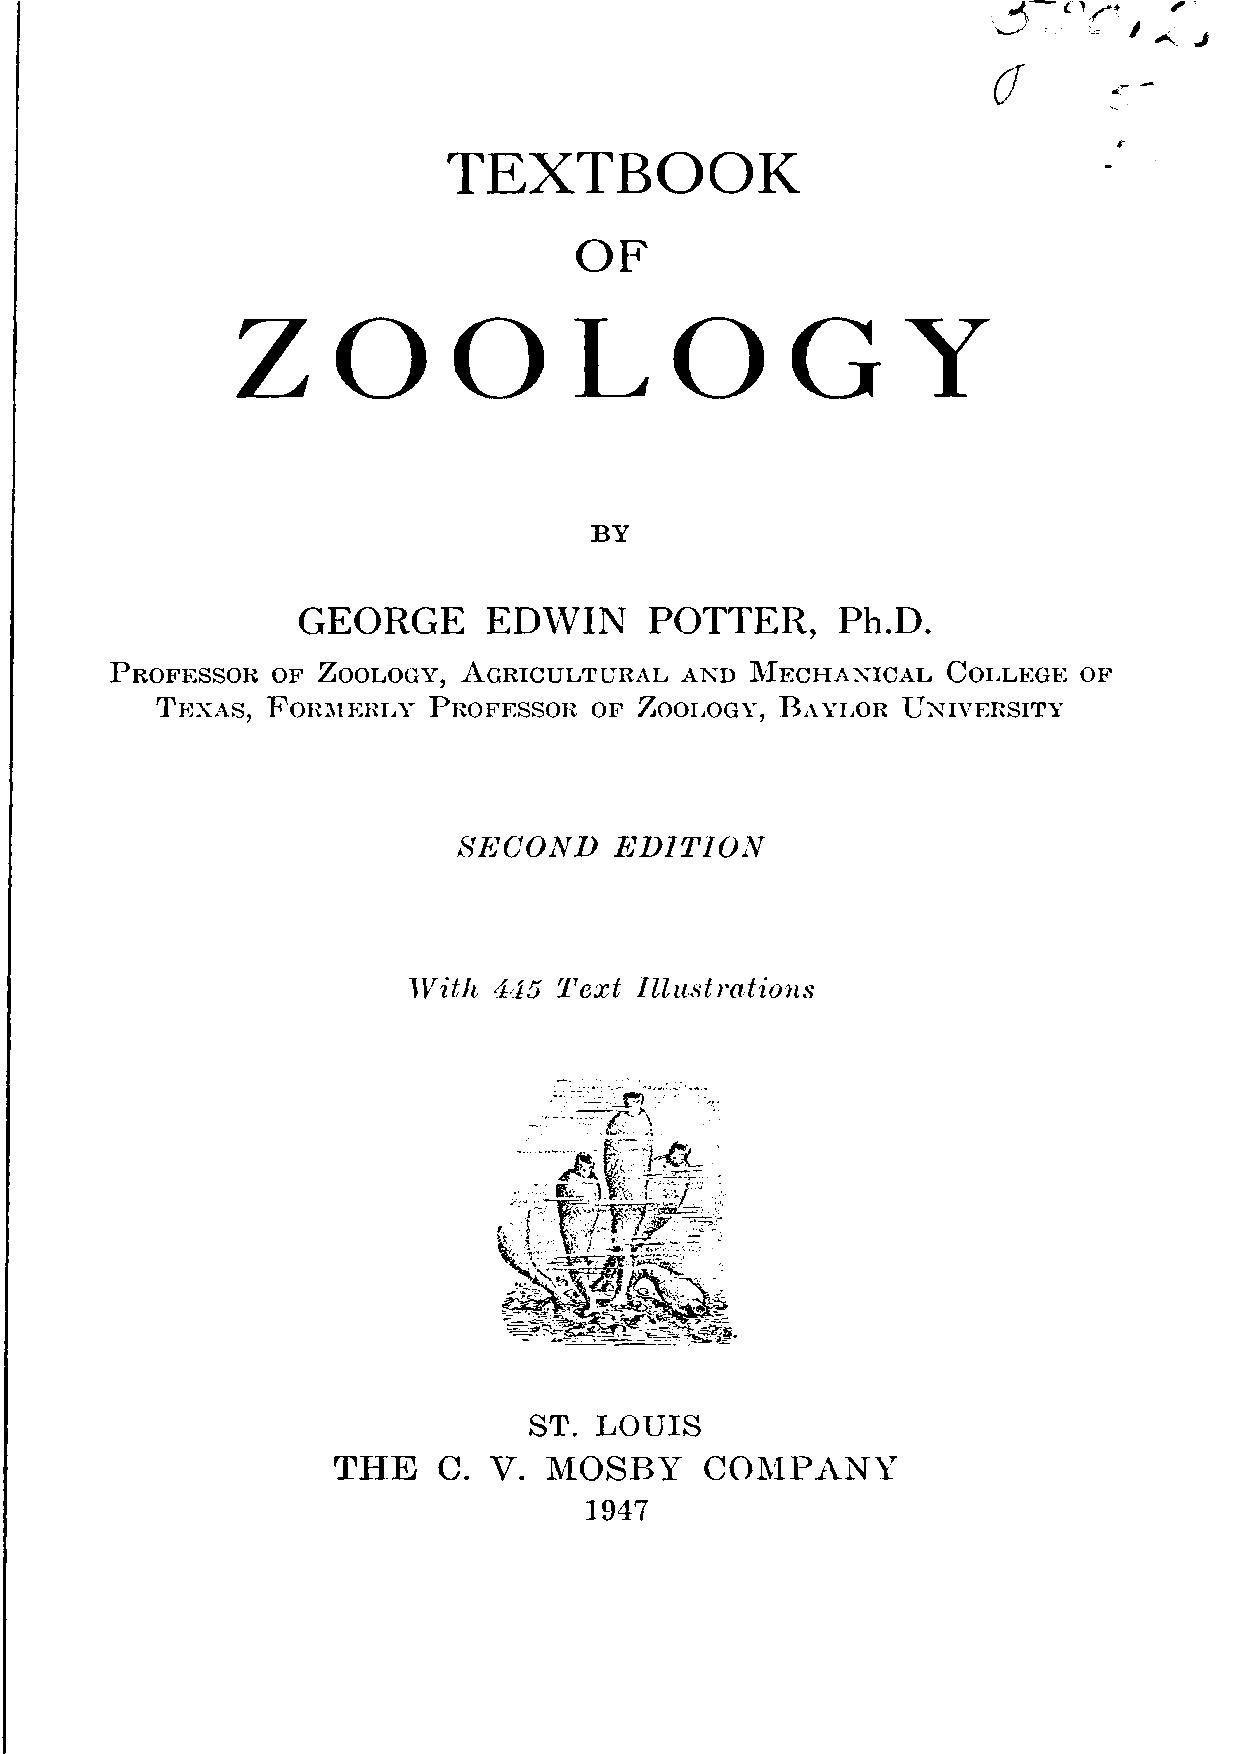author: (294, 519, 933, 637)
title: (229, 146, 992, 404)
